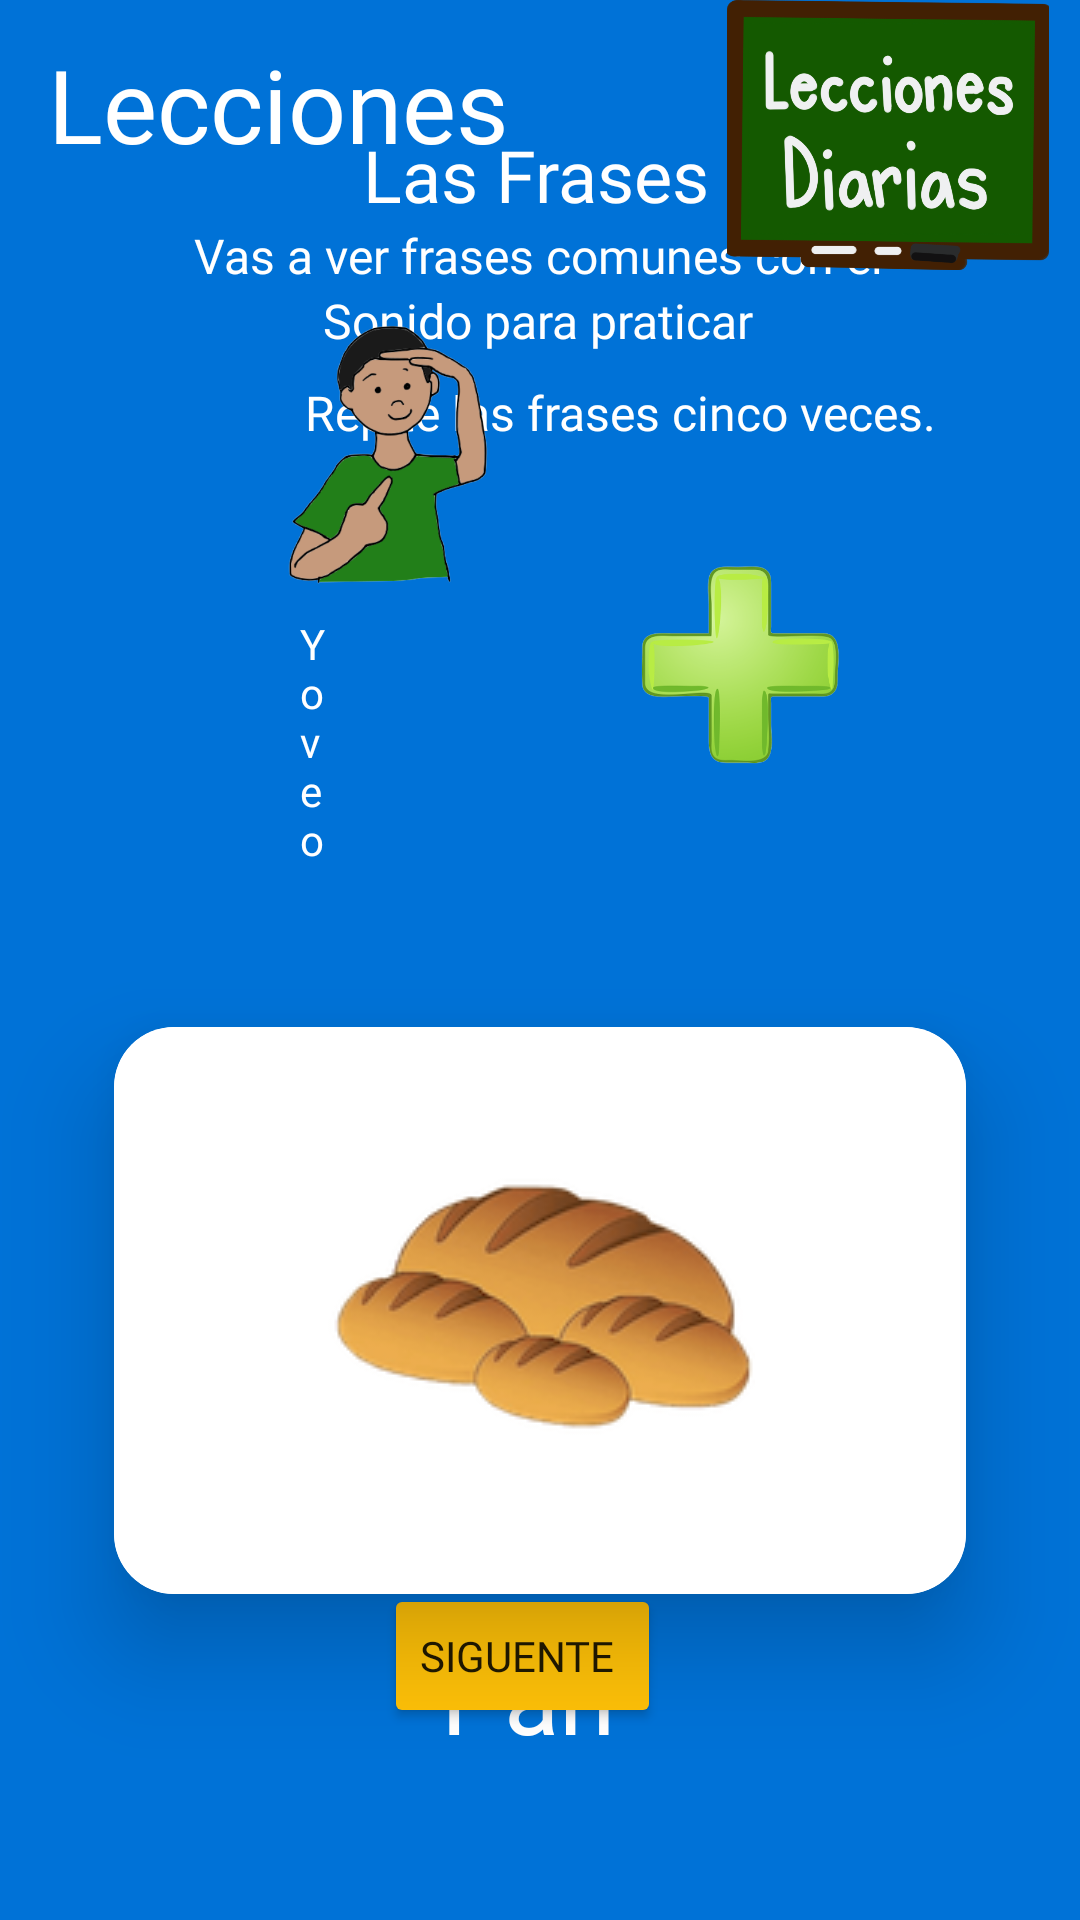

Icons on this 1080 × 1920 Android screen, each with its box as [x1=x1, y1=y1, x2=x2, y2=y2]:
plus: [x1=642, y1=566, x2=839, y2=763]
